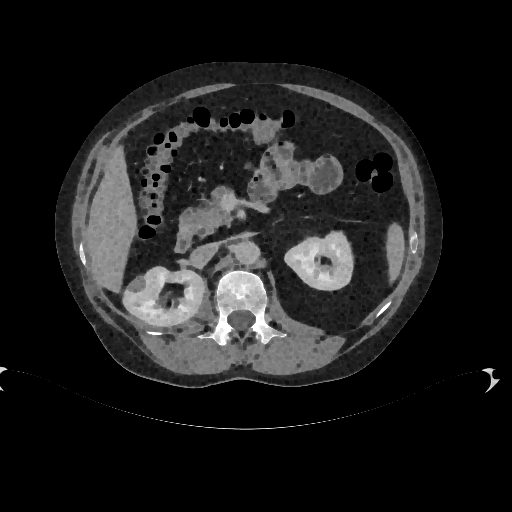Lesion: (124, 273, 148, 293)
